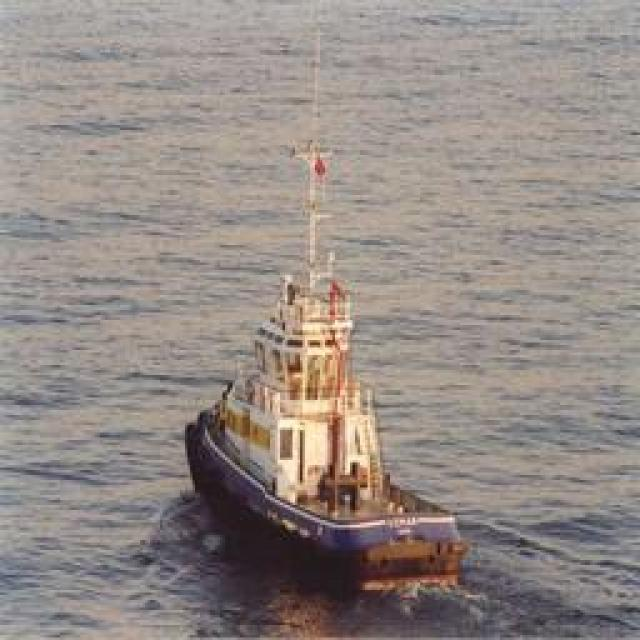ship2: (185, 139, 469, 596)
